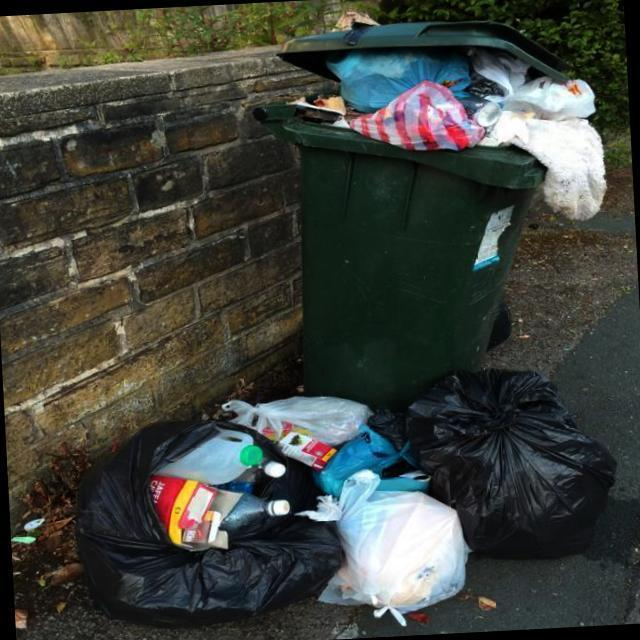garbage: (49, 357, 628, 640), (267, 34, 621, 242)
